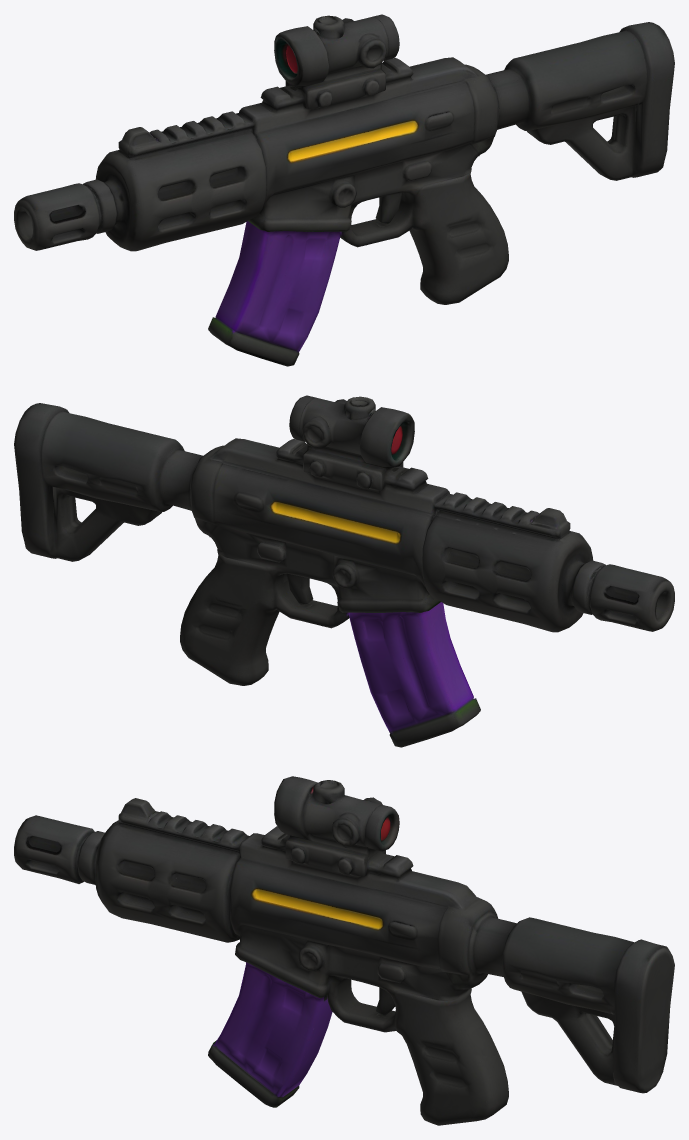
File: gun.glb
3 renders of one model, top to bottom at view 1: azimuth 30°, elevation 25°; view 2: azimuth 150°, elevation 25°; view 3: azimuth 330°, elevation 25°, orthographic.
Visible parts, largest first — view 1: tripo_node_da71c9fe-2349-4b74-859f-e3ceb6c8bd16; view 2: tripo_node_da71c9fe-2349-4b74-859f-e3ceb6c8bd16; view 3: tripo_node_da71c9fe-2349-4b74-859f-e3ceb6c8bd16.
Boxes of the visible parts, <box> form: tripo_node_da71c9fe-2349-4b74-859f-e3ceb6c8bd16: <box>14,14,674,366</box>; tripo_node_da71c9fe-2349-4b74-859f-e3ceb6c8bd16: <box>14,395,674,747</box>; tripo_node_da71c9fe-2349-4b74-859f-e3ceb6c8bd16: <box>14,776,674,1125</box>.
Size of the model in its own units: 1 by 0.4951 by 0.1194.
1 material, 1 textured.
